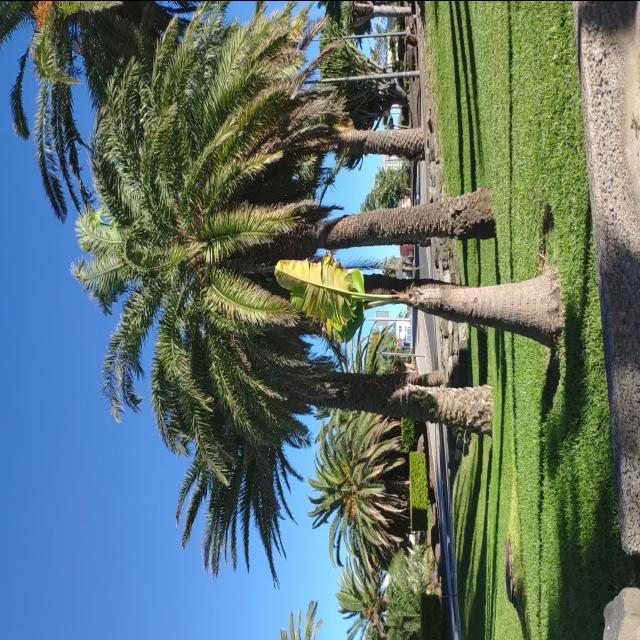Palm-Trees: (72, 0, 497, 460), (309, 408, 411, 560)
